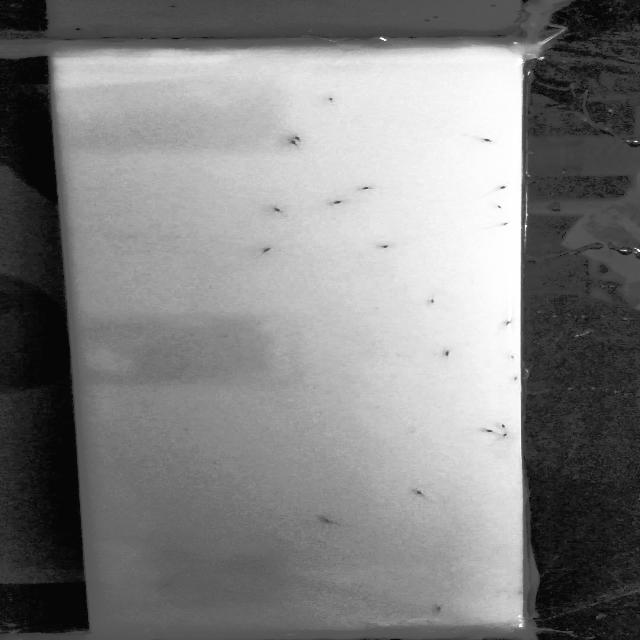shrimp: (508, 373, 534, 394), (491, 200, 523, 216), (489, 415, 513, 435), (497, 219, 523, 236), (312, 513, 338, 530), (419, 296, 446, 312), (318, 94, 344, 108), (406, 487, 434, 500), (477, 133, 498, 150), (269, 206, 296, 219), (162, 578, 180, 596), (490, 180, 516, 192), (376, 239, 395, 254), (440, 347, 458, 362), (429, 604, 448, 618), (497, 317, 521, 328), (478, 423, 495, 438), (254, 244, 277, 255), (358, 182, 376, 193), (334, 196, 347, 209), (290, 130, 304, 142), (284, 141, 306, 148), (508, 353, 519, 362), (505, 431, 516, 439)
